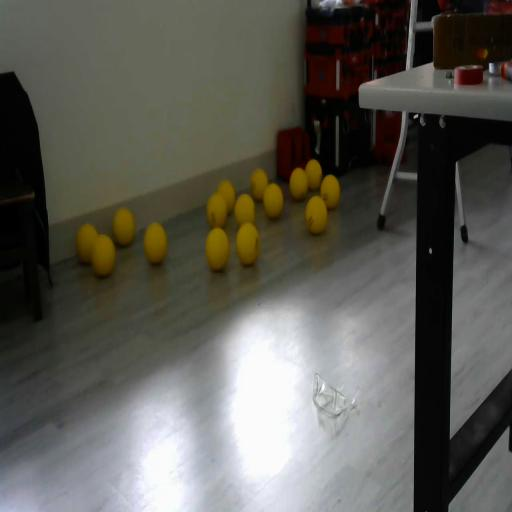FUEL: (204, 226, 230, 272), (90, 232, 116, 278), (142, 221, 168, 265), (236, 222, 260, 266), (306, 195, 328, 234), (112, 208, 134, 246), (262, 182, 284, 218), (234, 192, 256, 227), (216, 180, 236, 216), (320, 174, 340, 210), (288, 167, 308, 201), (250, 168, 268, 202), (304, 158, 322, 190)
